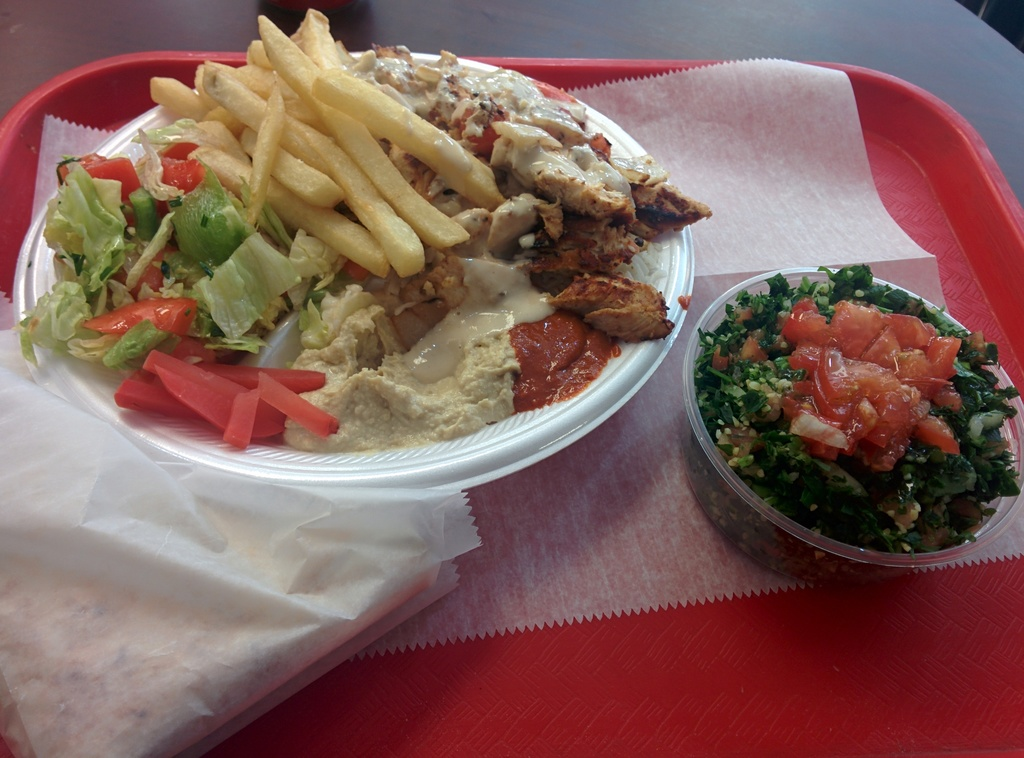French fries: (135, 5, 503, 278)
